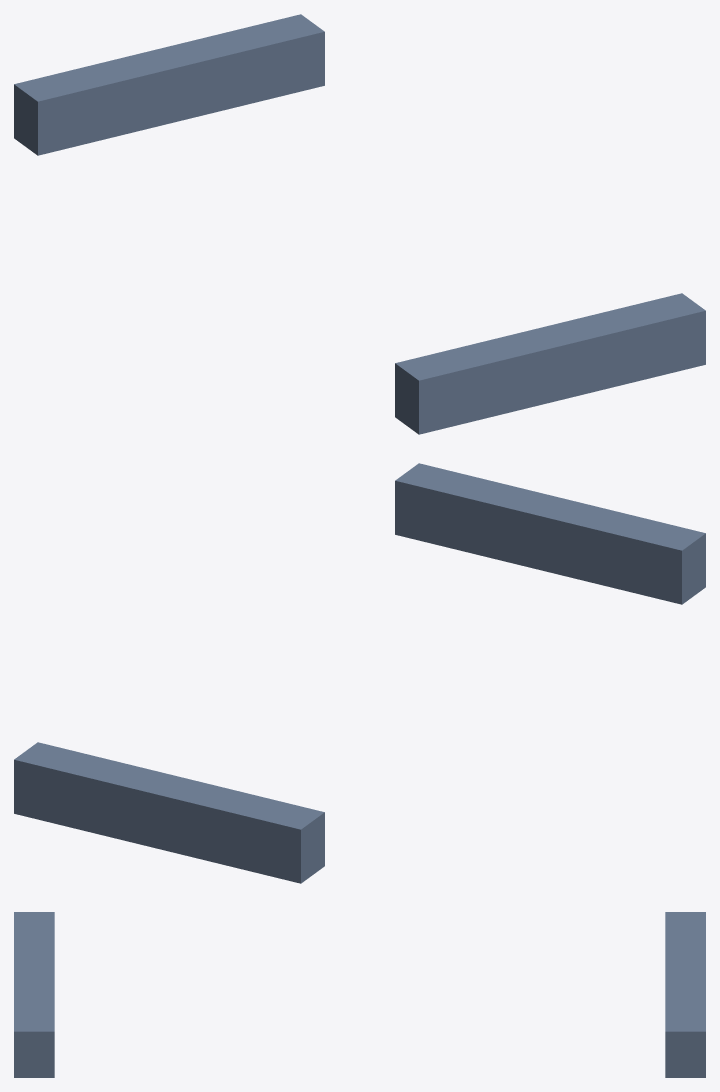
Rendered from steel.glb.
3 renders of one model, top to bottom at view 1: azimuth 30°, elevation 25°; view 2: azimuth 150°, elevation 25°; view 3: azimuth 270°, elevation 25°, orthographic. The views are drawn at different scales.
Parts seen in each view (by area): view 1: steel; view 2: steel; view 3: steel.
Part boxes in pixels (bbox=[...]): steel: bbox=[14, 14, 705, 434]; steel: bbox=[14, 463, 705, 883]; steel: bbox=[14, 912, 705, 1077].
Bounding box in the file's own units: 1 × 0.18 × 2.44.
